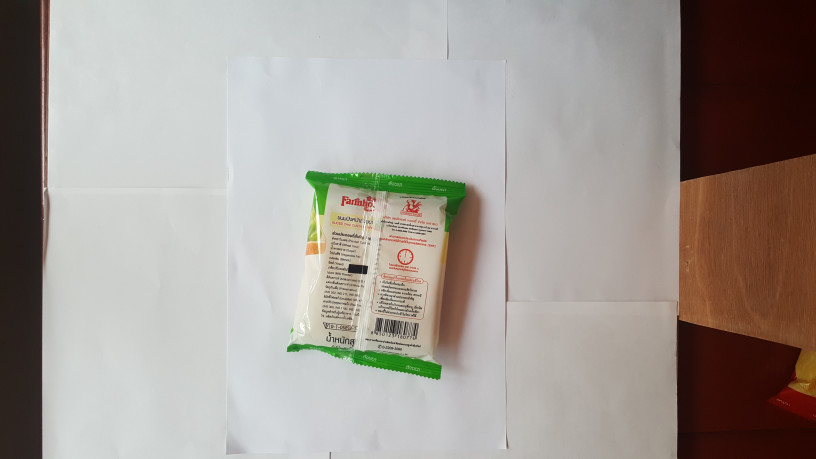farmhouse-bread-pandan: (269, 163, 470, 386)
